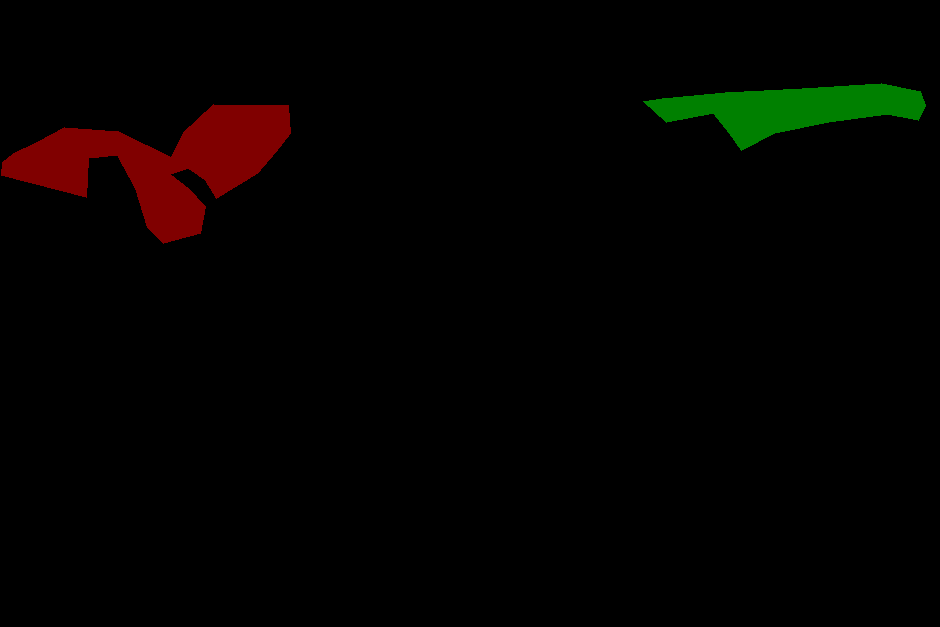fire: (1, 104, 290, 243), (643, 83, 925, 150)
